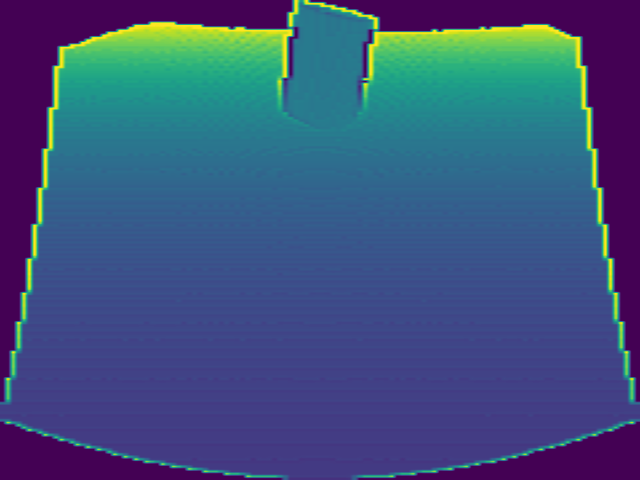cylinder: (277, 1, 378, 128)
